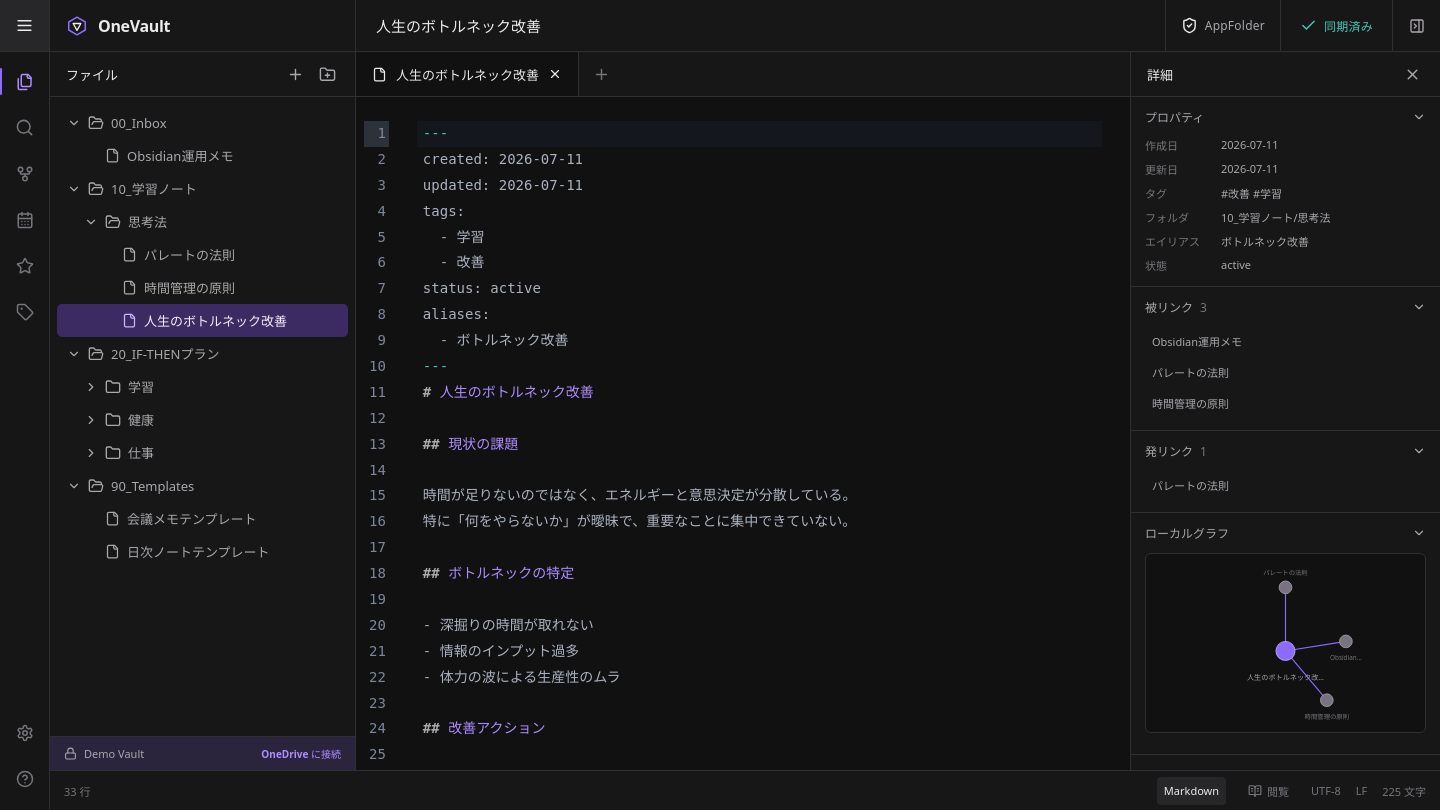
Test: OneVault shell › creates a folder from the new-folder button
Step 1. Click the button named "新規フォルダ" → (327, 74), box left=311, top=58, right=343, bottom=90
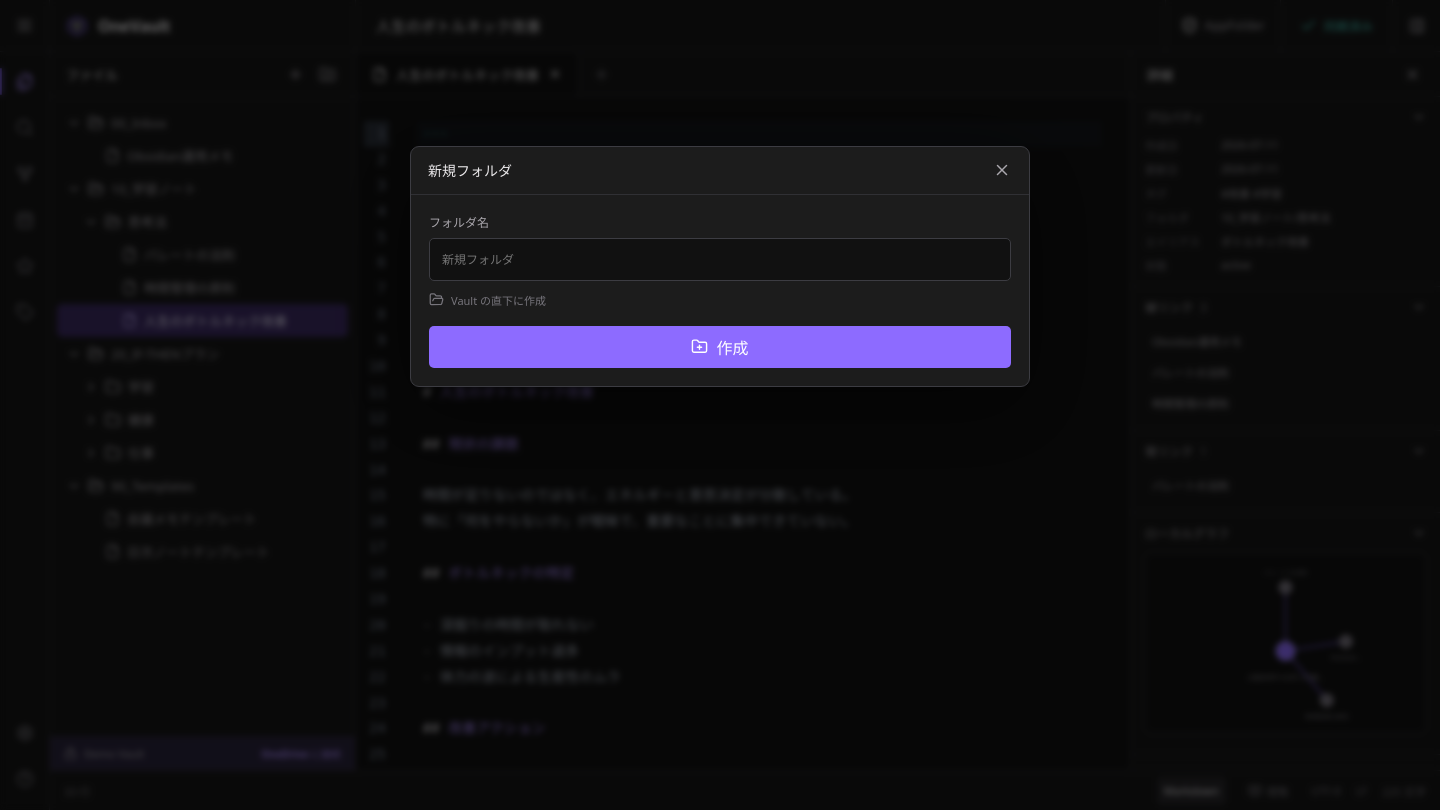
Step 2. Type "資料" into the field labelled "フォルダ名" → (720, 259), box left=429, top=238, right=1011, bottom=281
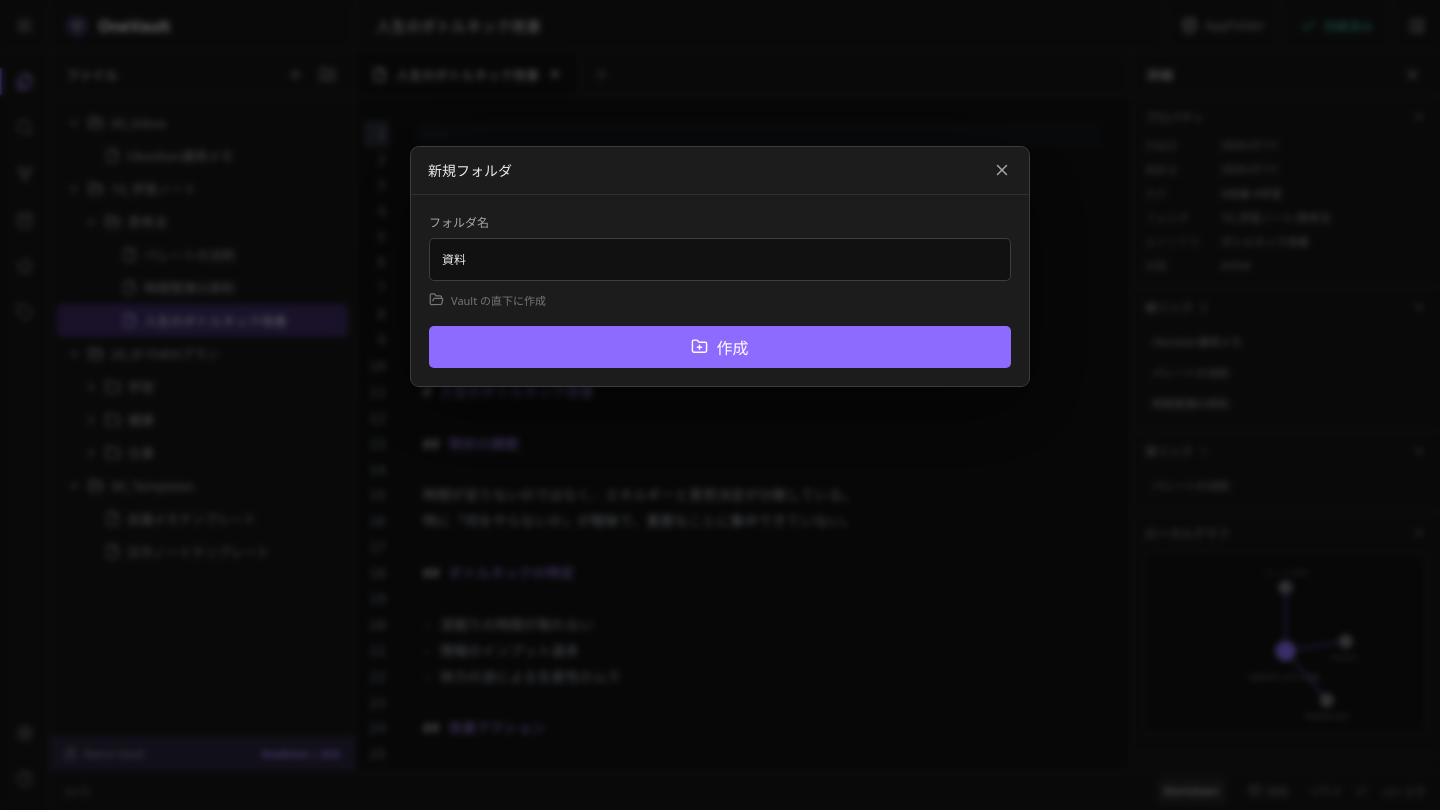
Step 3. Click the button "作成" → (720, 347), box left=429, top=326, right=1011, bottom=368
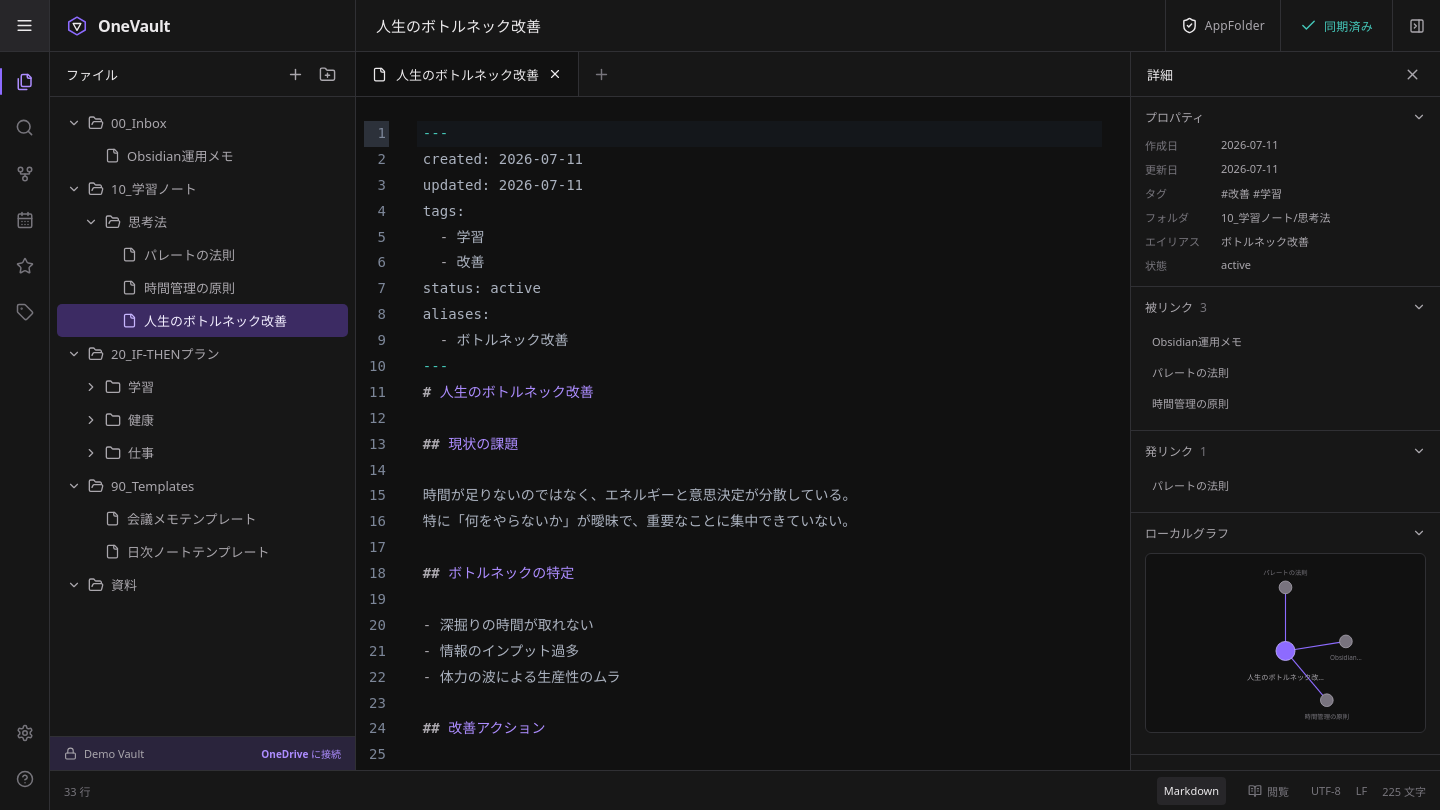
Expected: the button "資料" is shown, left=57, top=568, right=348, bottom=601
Expected: the heading "新規フォルダ" is gone
